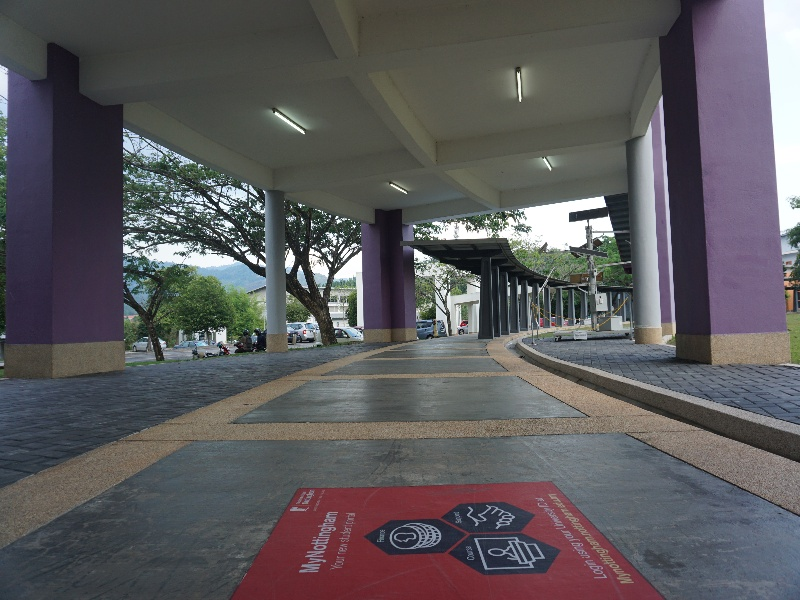Block D Pillar 4: (4, 9, 800, 467)
pillar: (654, 1, 792, 376), (1, 58, 123, 377), (612, 118, 675, 345), (354, 201, 424, 345), (261, 168, 292, 360), (475, 252, 493, 348)
